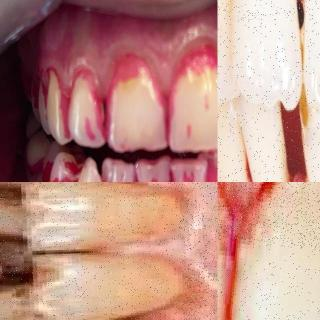Gum Swelling: (128, 182, 218, 320)
maligned: (167, 156, 210, 182), (72, 159, 108, 182)
stains: (0, 232, 36, 278), (0, 182, 32, 209)
